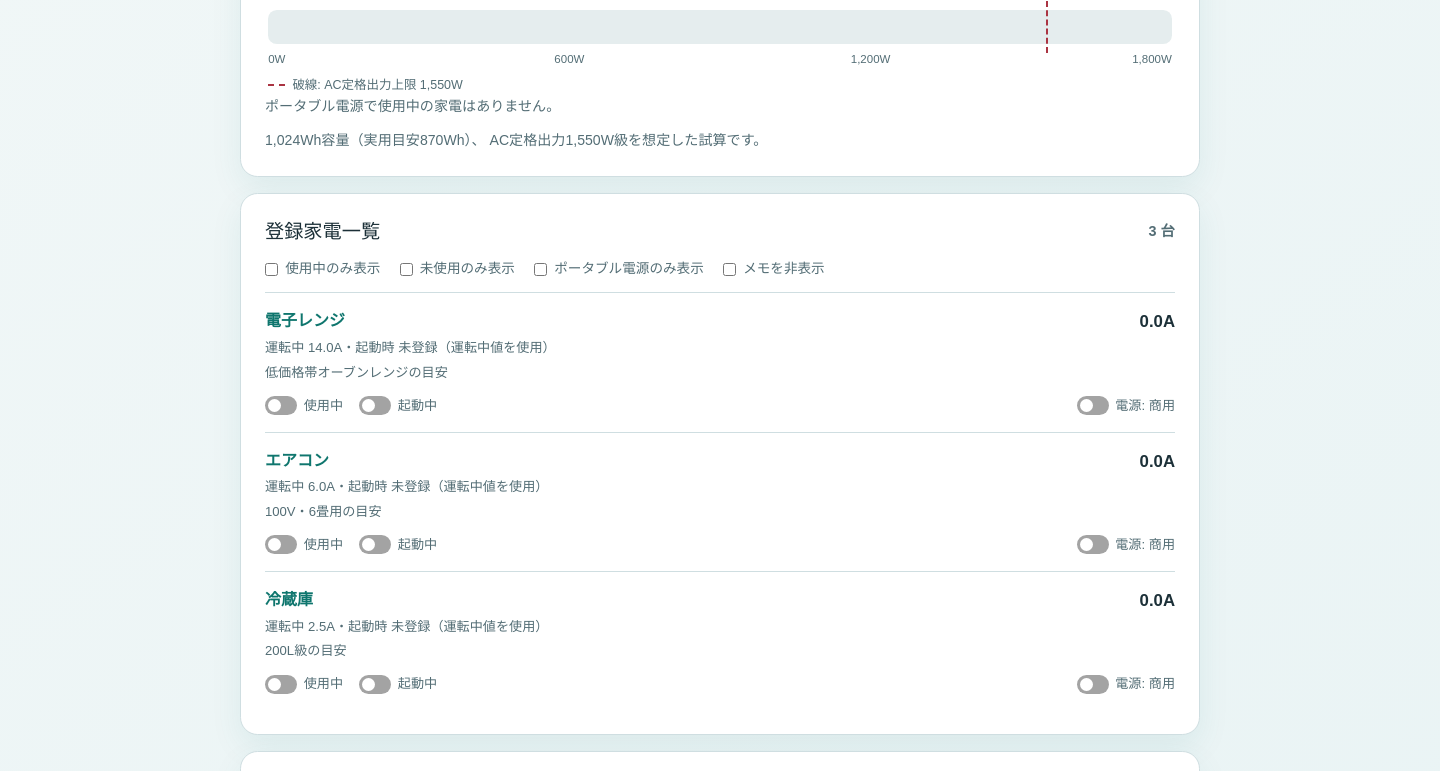
Test: Home › filters the appliance list to portable power assignments and combines with usage filters
(page scrolled)
Check: the heading "登録家電一覧" is shown, box [265,218,380,246]
Click the switch named "電子レンジの使用電源" at (1126,406), box [1076,396,1175,416]
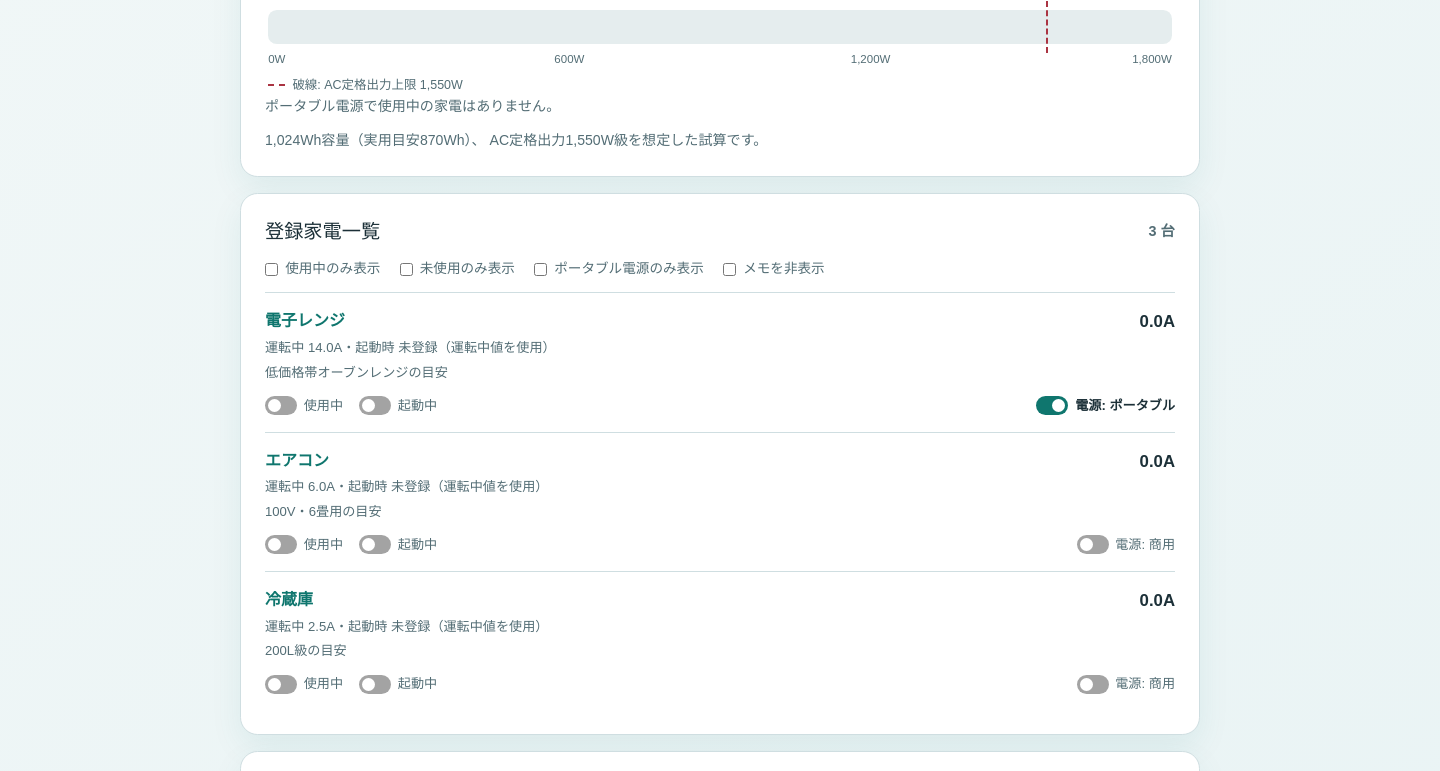
Click the checkbox labelled "ポータブル電源のみ表示" at (541,269), box [534,263,547,276]
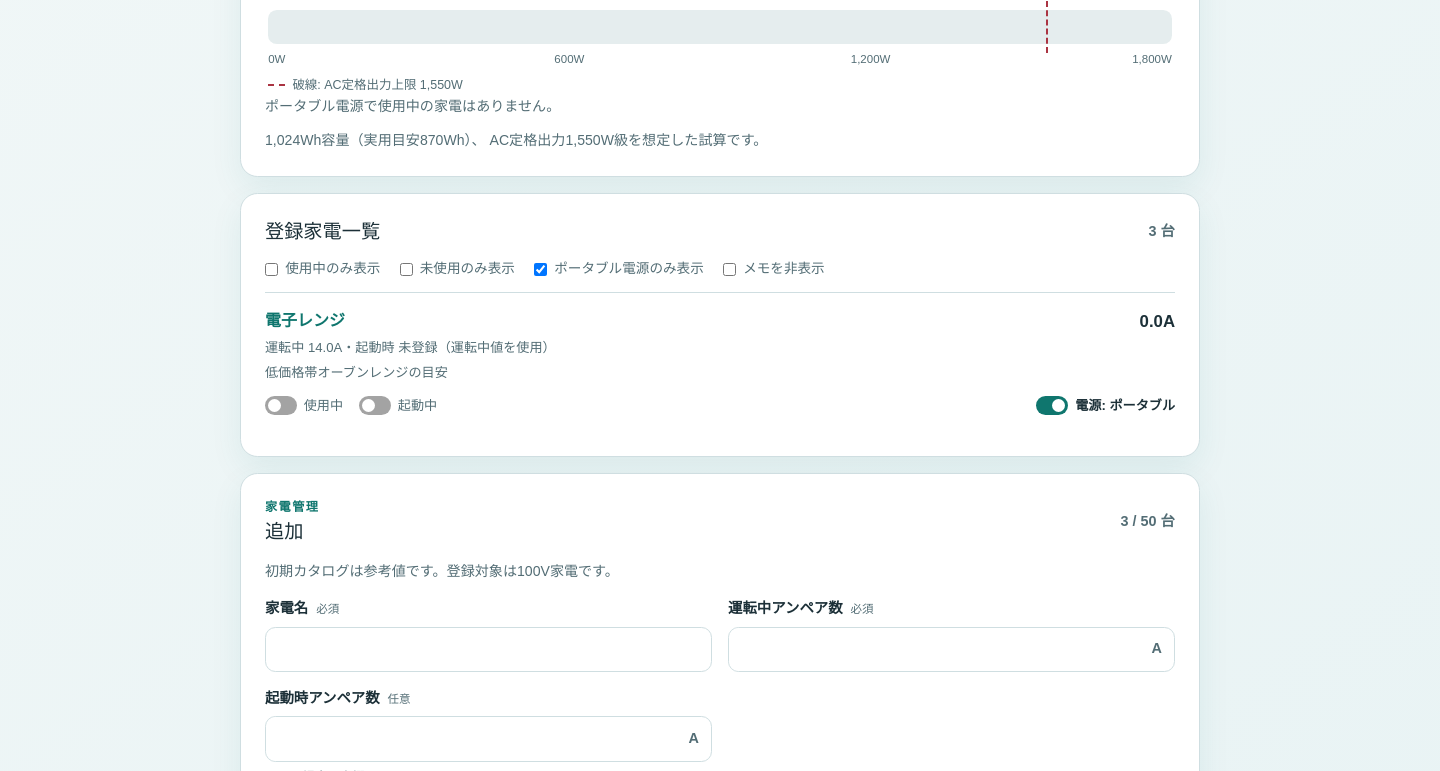
Check: the heading "電子レンジ" is shown, box [265,309,345,333]
Check: the checkbox labelled "ポータブル電源のみ表示" is checked, box [534,263,547,276]
Check: the button "冷蔵庫" is gone
Click the checkbox labelled "使用中のみ表示" at (272,269), box [265,263,278,276]
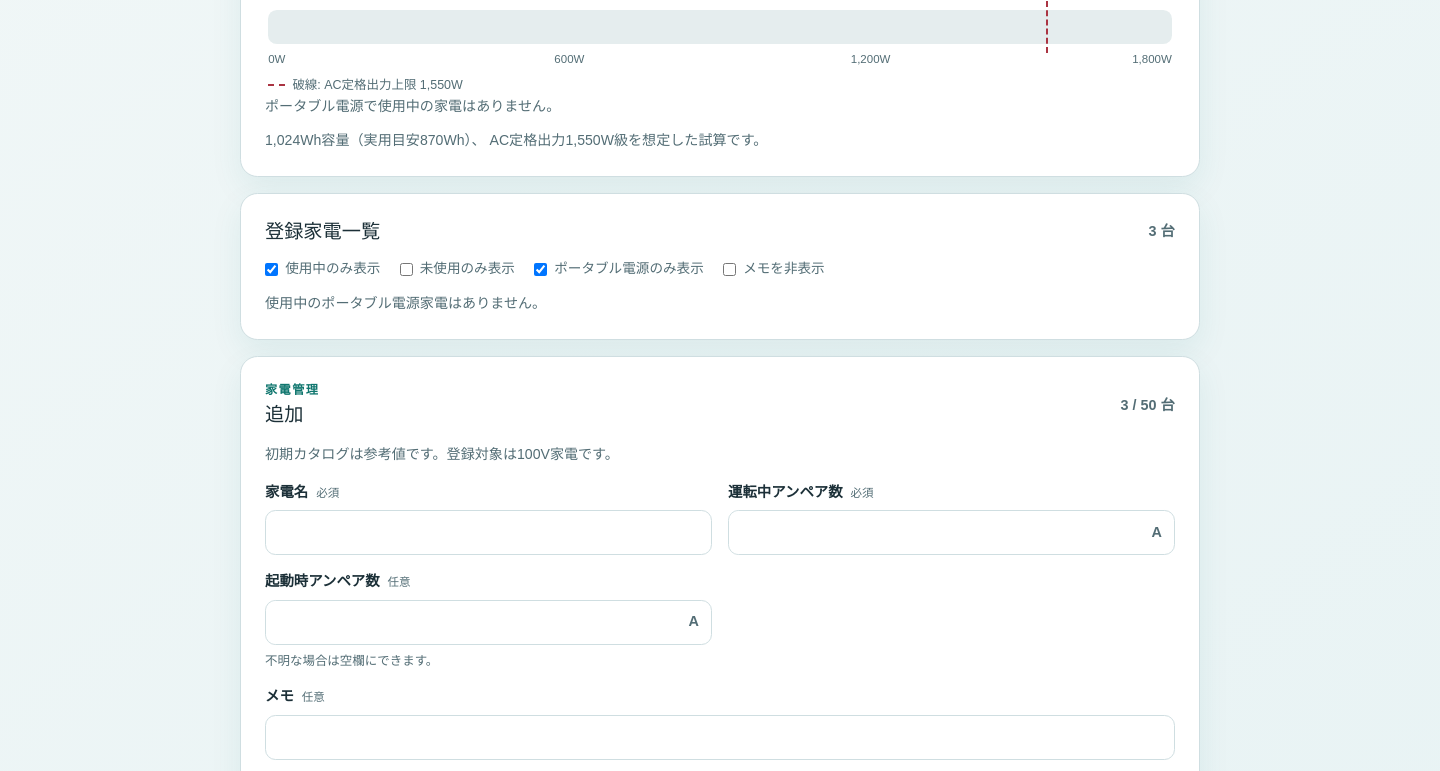
Check: the message reads "使用中のポータブル電源家電はありません。", box [265,295,546,311]
Click the checkbox labelled "未使用のみ表示" at (406,269), box [400,263,412,276]
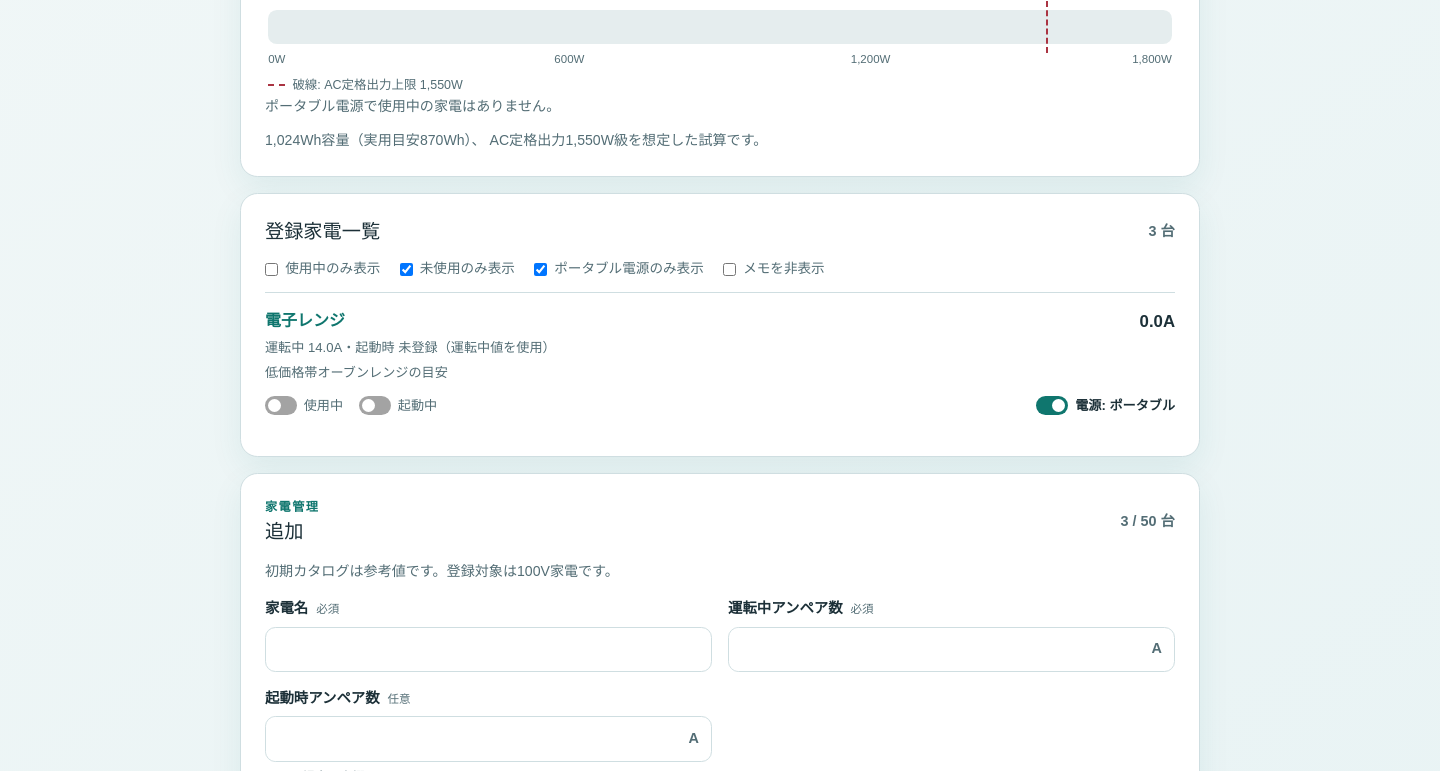
Check: the heading "電子レンジ" is shown, box [265,309,345,333]
Click the switch named "電子レンジの使用電源" at (1106,406), box [1036,396,1175,416]
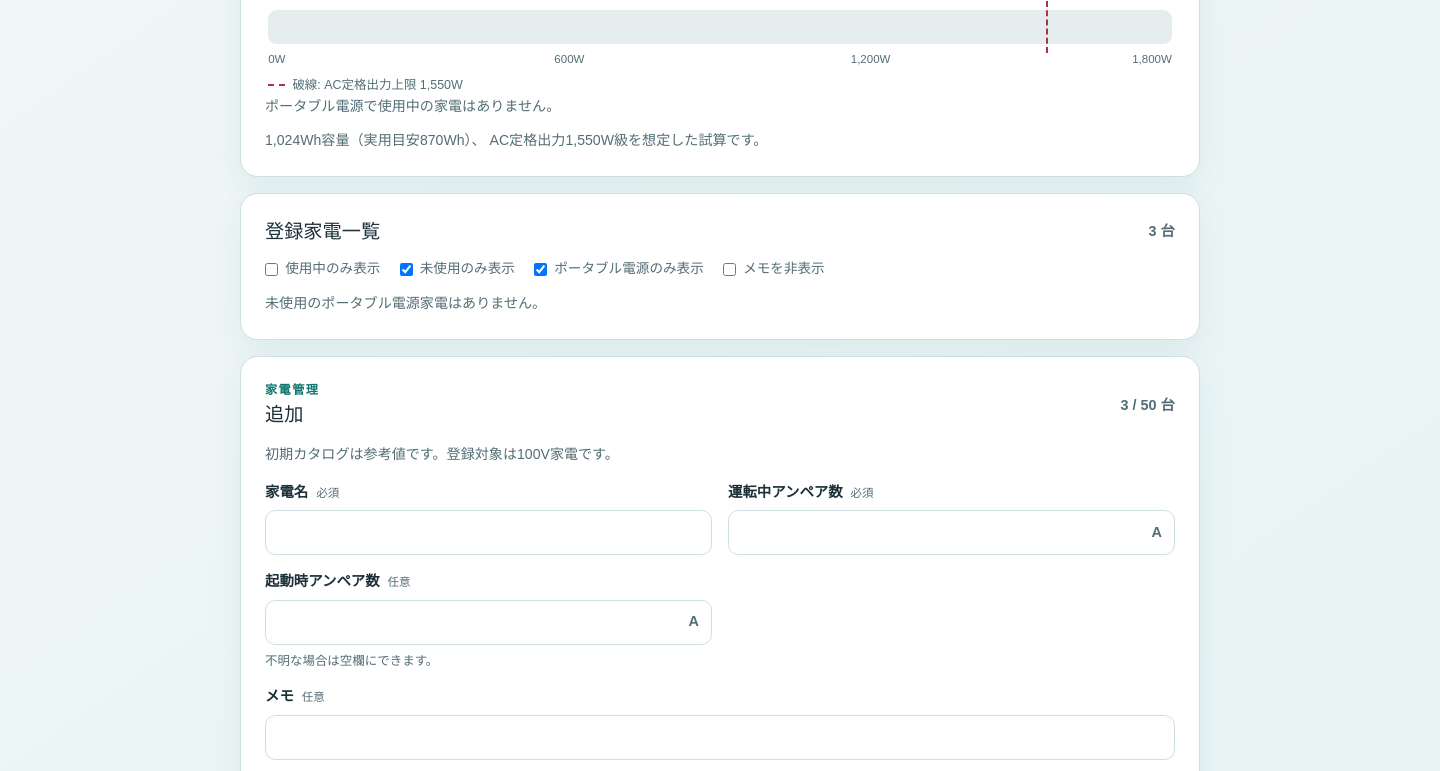
Check: the message reads "未使用のポータブル電源家電はありません。", box [265,295,546,311]
